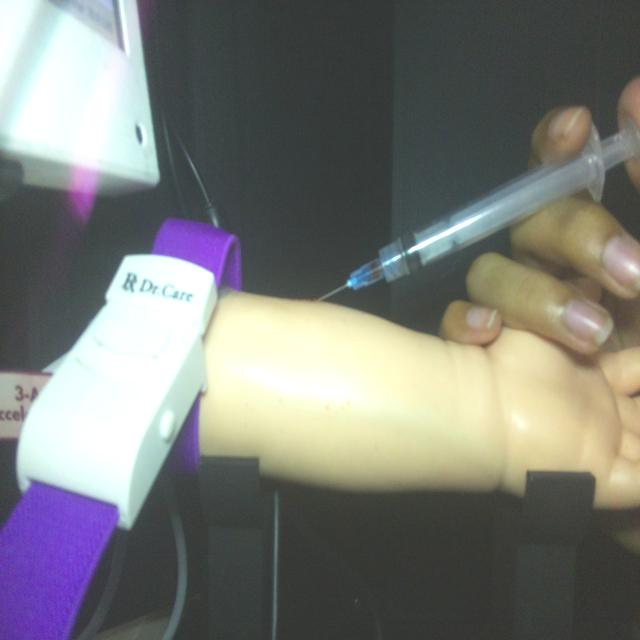17 degrees: (312, 113, 638, 304)
